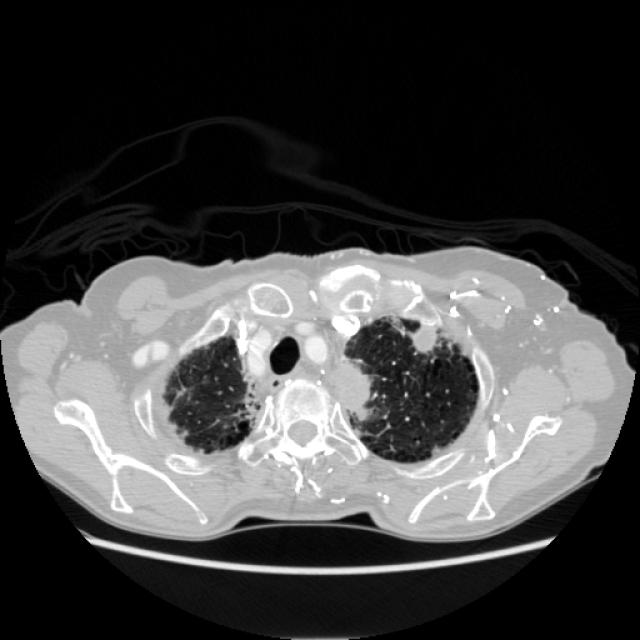nodule: (394, 309, 451, 366)
